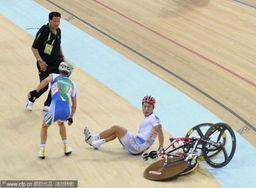Fall-Detected: (78, 91, 168, 157)
